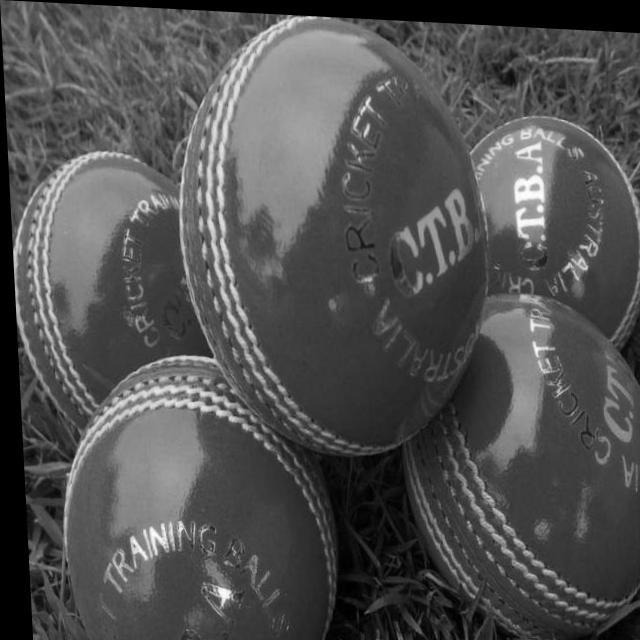cricket ball: (177, 12, 486, 453), (397, 289, 640, 637), (58, 354, 333, 640)
